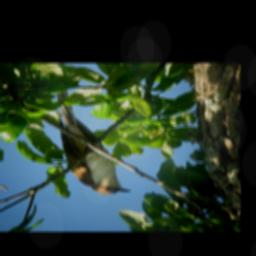Cuckoo: (53, 86, 134, 196)
